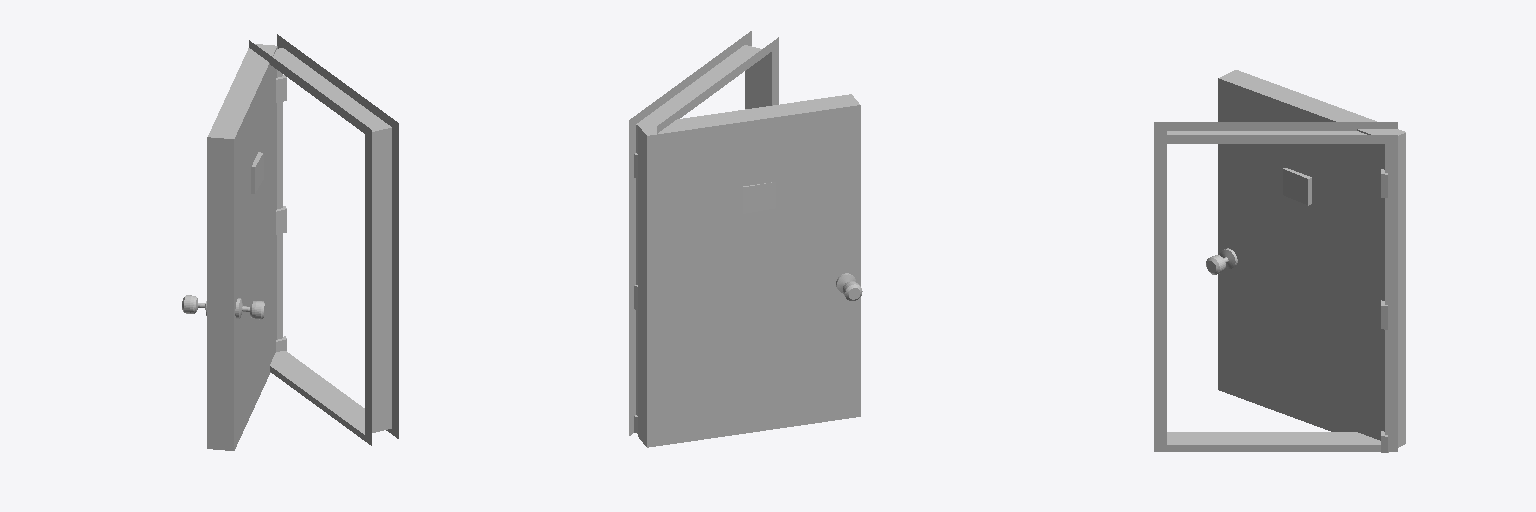
Rendered from Door_1_Open13.obj.
3 views of the same model, side by side, from view 1: azimuth 30°, elevation 25°; view 2: azimuth 150°, elevation 25°; view 3: azimuth 270°, elevation 25° (orthographic).
Visible parts, largest first — view 1: Door, Frame_Door; view 2: Door, Frame_Door; view 3: Door, Frame_Door.
Part boxes in pixels (left/top/right/bottom): Door: left=182, top=44, right=277, bottom=450; Frame_Door: left=249, top=34, right=398, bottom=445; Door: left=638, top=94, right=862, bottom=447; Frame_Door: left=629, top=31, right=778, bottom=435; Door: left=1206, top=70, right=1405, bottom=452; Frame_Door: left=1154, top=122, right=1397, bottom=452.
Size of the model in its own units: 0.6631 by 1.21 by 0.87.